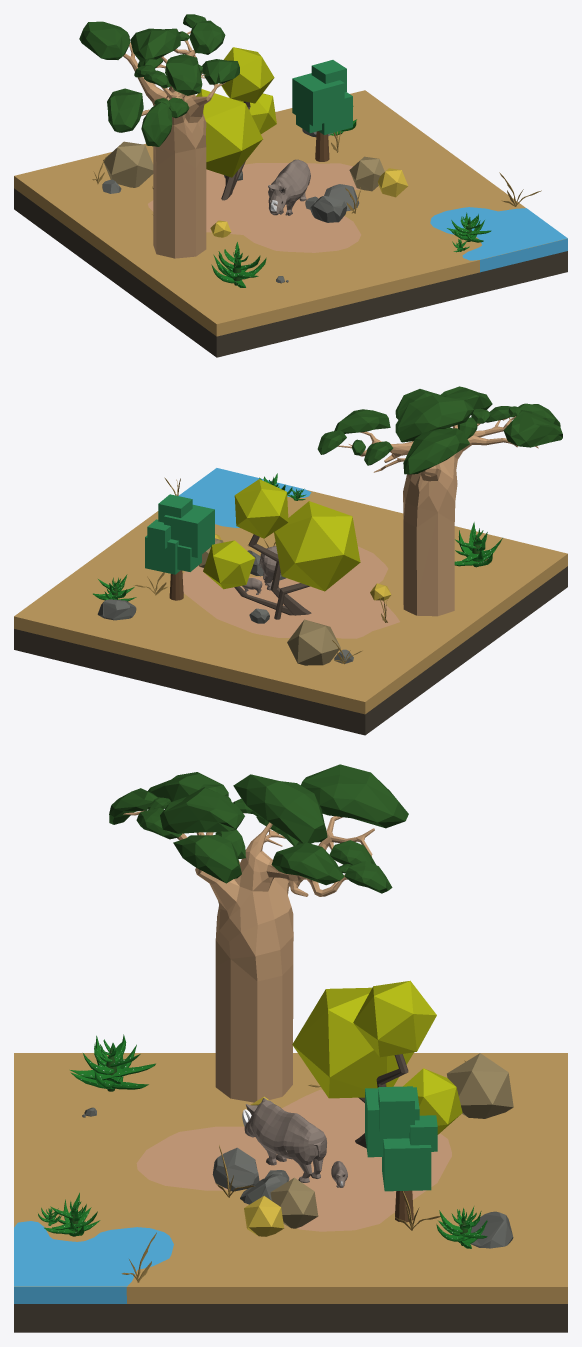
3 views of the same model, one above another, from view 1: azimuth 30°, elevation 25°; view 2: azimuth 150°, elevation 25°; view 3: azimuth 270°, elevation 25° (orthographic). The views are drawn at different scales.
Visible parts, largest first — view 1: Savanna, object 1, Savanna.027, Savanna.005, Savanna.018, Savanna.028, Savanna.008, Savanna.014, Savanna.026, Savanna.016, Savanna.011, Savanna.017 (+2 smaller); view 2: Savanna, object 1, Savanna.005, Savanna.027, Savanna.018, Savanna.028, Savanna.008, Savanna.026, Savanna.019, Savanna.021, Savanna.014; view 3: Savanna, object 1, Savanna.027, Savanna.005, Savanna.028, Savanna.018, Savanna.014, Savanna.008, Savanna.026, Savanna.016, Savanna.011, Savanna.017 (+4 smaller).
Part boxes in pixels (x1,y1,x2,y2): Savanna: (14, 90, 567, 357); object 1: (79, 14, 239, 258); Savanna.027: (148, 163, 361, 252); Savanna.005: (196, 47, 276, 200); Savanna.018: (292, 60, 352, 161); Savanna.028: (430, 207, 567, 260); Savanna.008: (103, 141, 153, 187); Savanna.014: (268, 159, 310, 215); Savanna.026: (211, 242, 266, 287); Savanna.016: (349, 156, 384, 191); Savanna.011: (310, 196, 346, 222); Savanna.017: (378, 168, 407, 197); Savanna: (14, 490, 567, 735); object 1: (317, 386, 562, 616); Savanna.005: (203, 479, 360, 619); Savanna.027: (182, 546, 399, 638); Savanna.018: (145, 494, 214, 600); Savanna.028: (179, 468, 311, 527); Savanna.008: (287, 619, 340, 665); Savanna.026: (454, 522, 502, 567); Savanna.019: (97, 599, 136, 620); Savanna.021: (93, 574, 136, 601); Savanna.014: (259, 546, 281, 590); Savanna: (14, 1053, 567, 1332); object 1: (109, 764, 408, 1102); Savanna.027: (136, 1089, 451, 1231); Savanna.005: (292, 980, 462, 1148); Savanna.028: (14, 1221, 173, 1286); Savanna.018: (365, 1086, 437, 1222); Savanna.014: (242, 1098, 326, 1182); Savanna.008: (447, 1053, 513, 1118); Savanna.026: (70, 1034, 155, 1091); Savanna.016: (270, 1177, 318, 1228); Savanna.011: (212, 1147, 259, 1191); Savanna.017: (244, 1196, 284, 1236).
Size of the model in its own units: 21.45 by 12.34 by 18.21.
